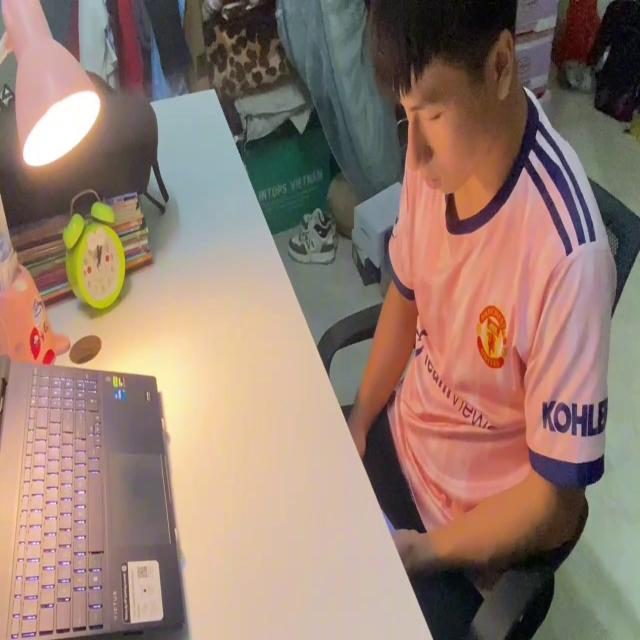laptop: (0, 341, 184, 640)
student: (339, 2, 618, 586)
